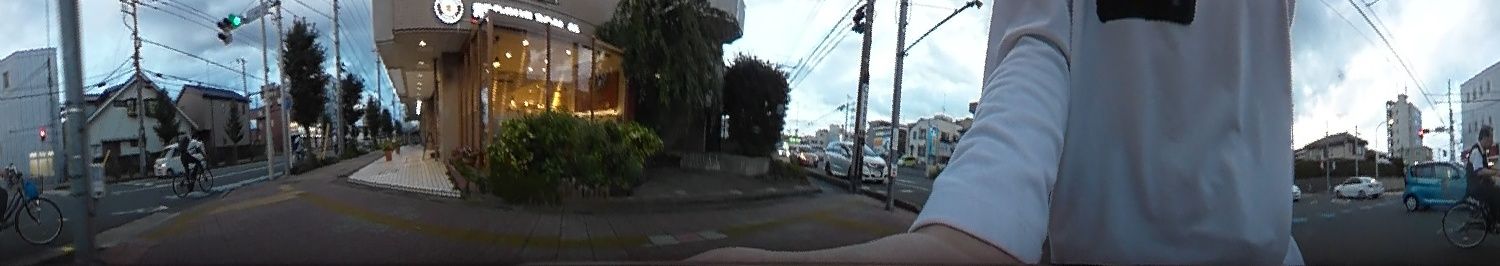person: (1459, 122, 1499, 231), (173, 130, 208, 186)
